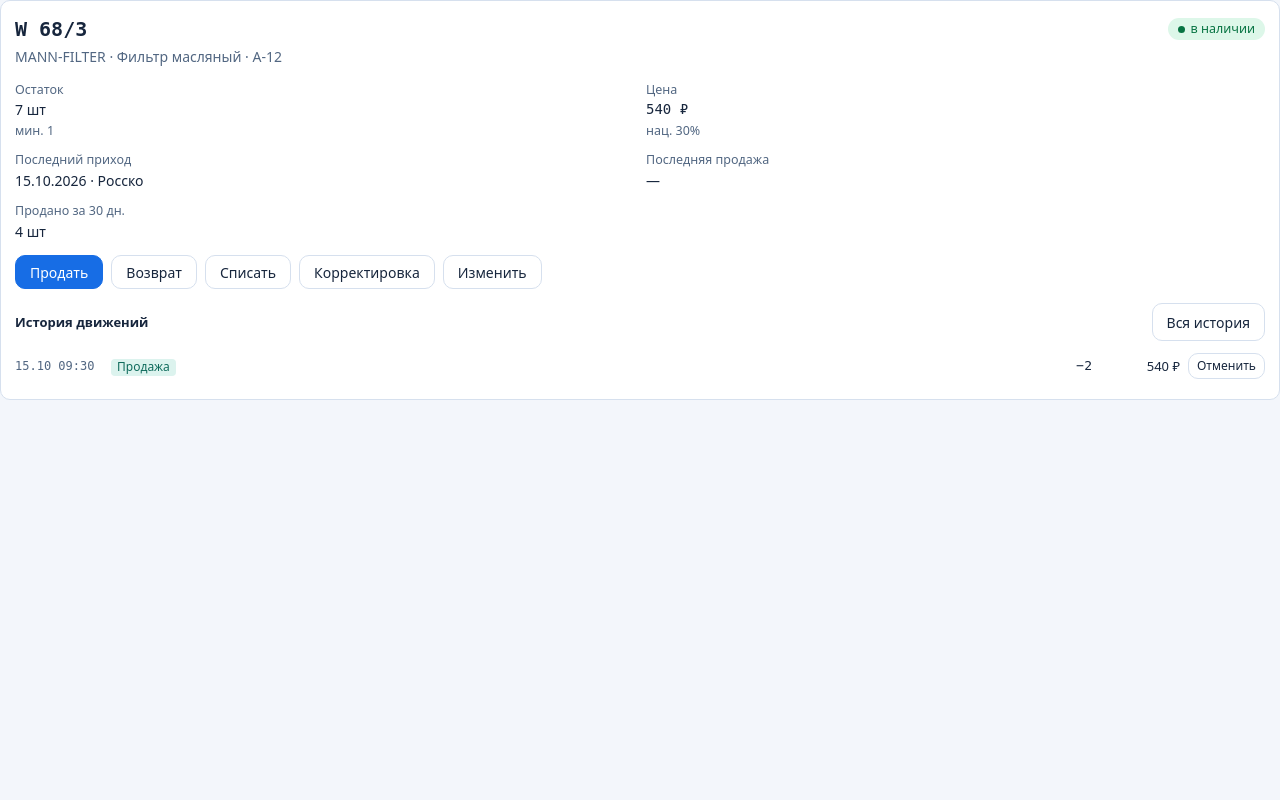
Scenario: ItemPanel cancel › shows a flash after cancelling
The image size is (1280, 800).
Click the button "Отменить".
click(1226, 366)  # box [1188, 353, 1265, 379]
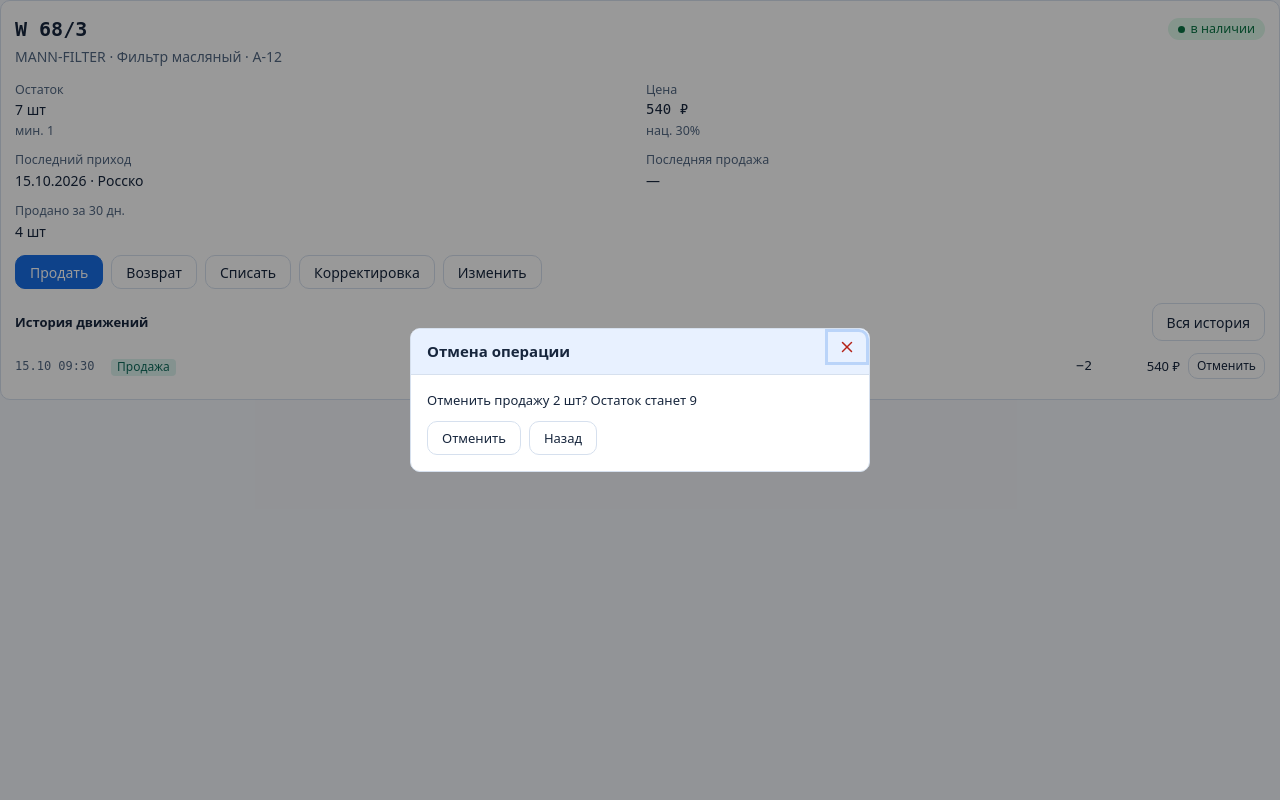
Click the button "Отменить" below "Отменить продажу 2 шт? Остаток станет 9".
click(474, 438)  # box [427, 421, 521, 455]
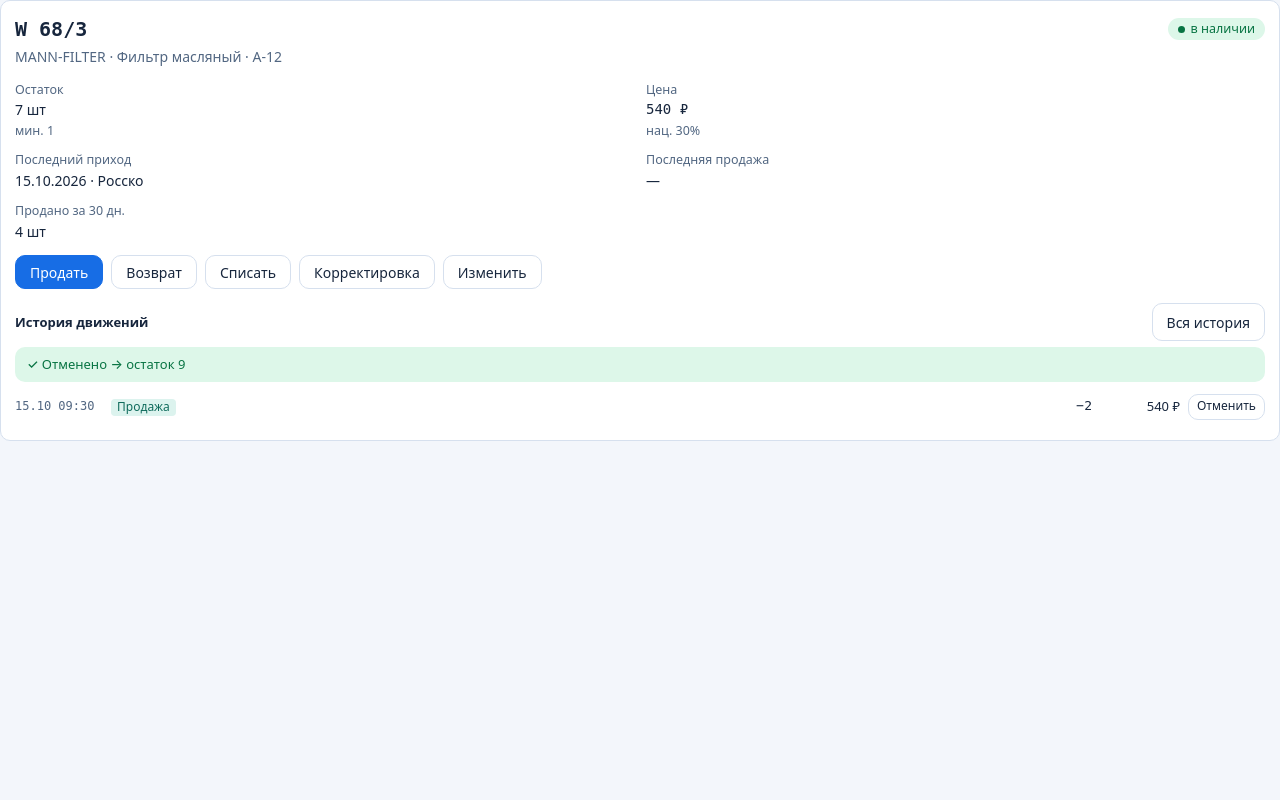
Result: the message reads "✓ Отменено → остаток 9" at [27, 355, 185, 373]
